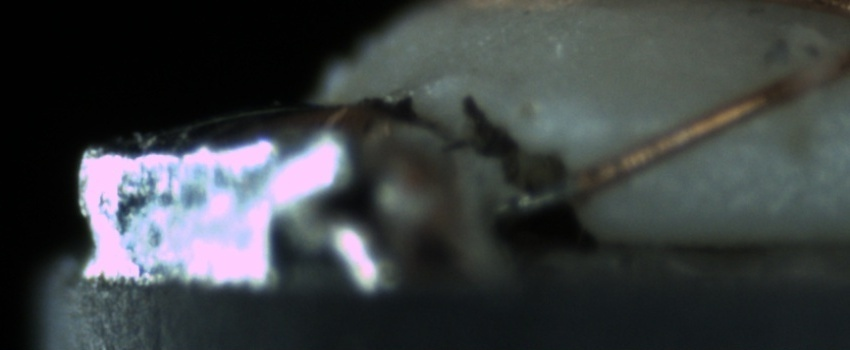TS: (498, 173, 576, 218)
